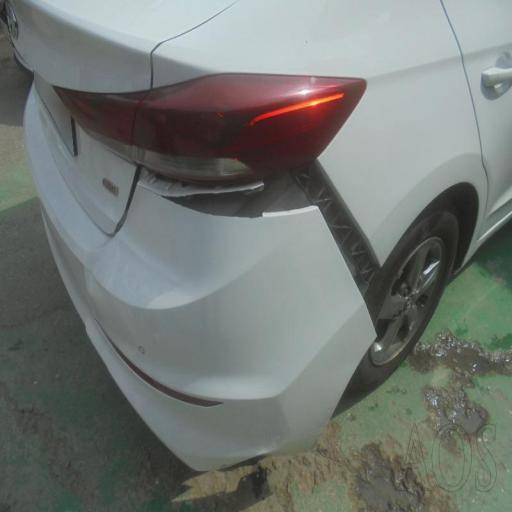broken: (12, 9, 433, 433)
